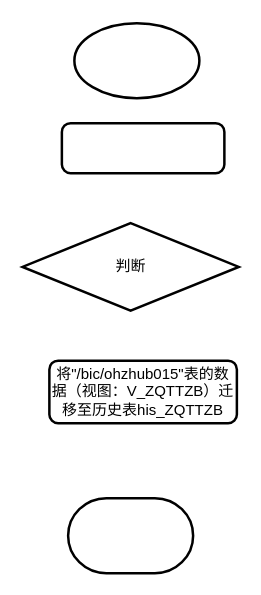
Some shapes in this 261 by 595 pixel diagram are drawn without their labels. Each missing label, with the centre of its shape:
"start" belongs at [136,60].
"根据azkaban调度判断是否执行" belongs at [142,147].
